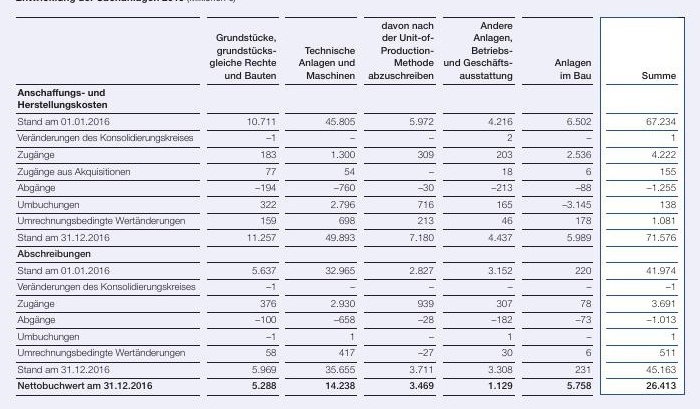table: (0, 0, 700, 409)
